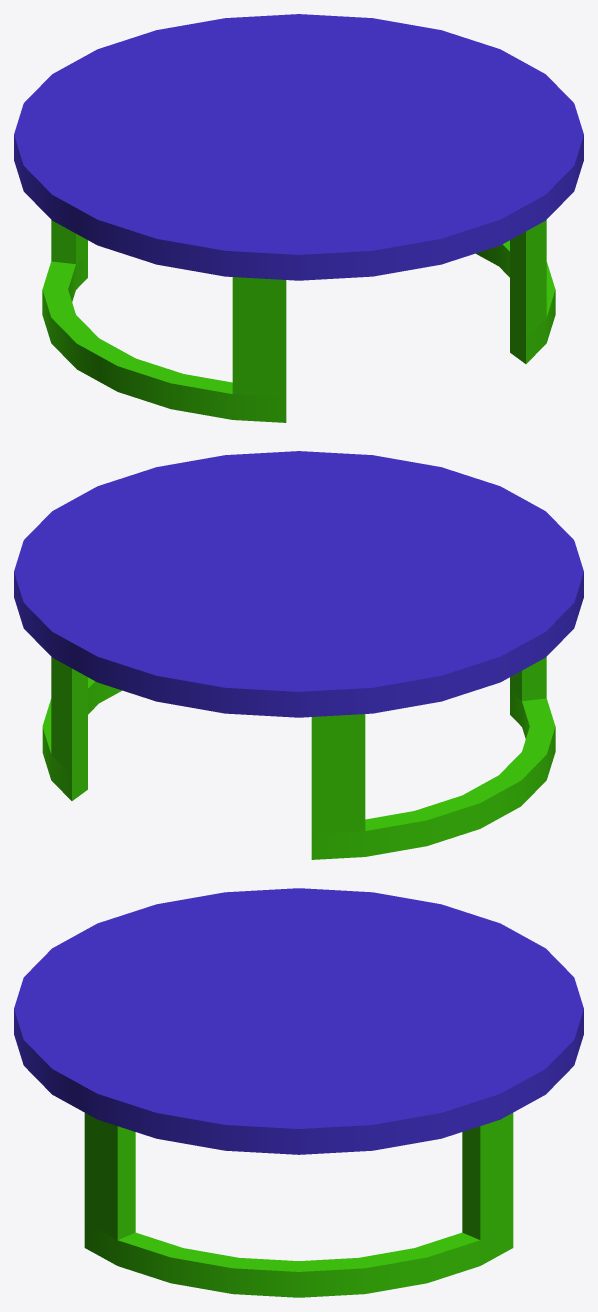
File: Table1.fbx
3 renders of one model, top to bottom at view 1: azimuth 30°, elevation 25°; view 2: azimuth 150°, elevation 25°; view 3: azimuth 270°, elevation 25°, orthographic.
Parts seen in each view (by area): view 1: Cylinder.002; view 2: Cylinder.002; view 3: Cylinder.002.
Boxes of the visible parts, x1=… form: Cylinder.002: x1=14, y1=14, x2=583, y2=422; Cylinder.002: x1=14, y1=451, x2=583, y2=859; Cylinder.002: x1=14, y1=888, x2=583, y2=1297.
Bounding box in the file's own units: 200 × 70 × 200.
